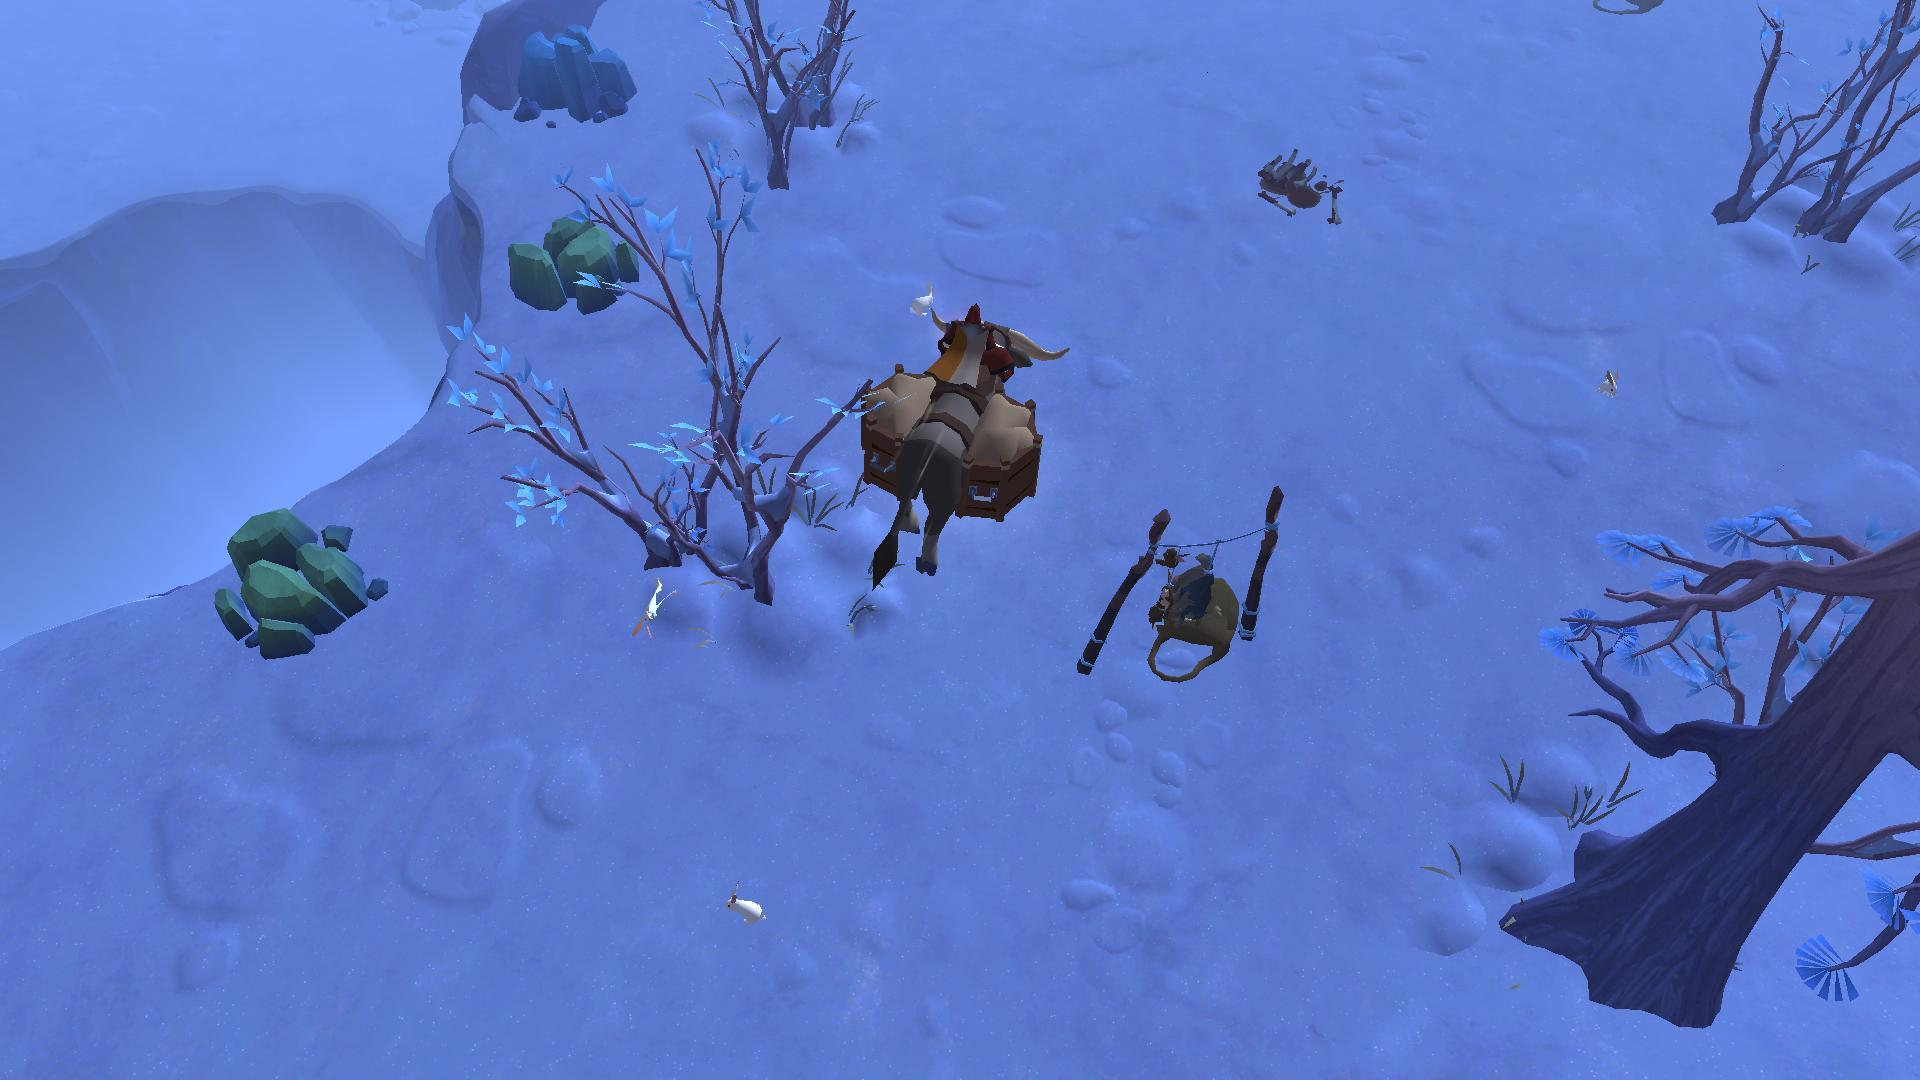rock_t3: (216, 496, 385, 661), (491, 207, 644, 311)
rock_t4: (495, 25, 644, 136)
